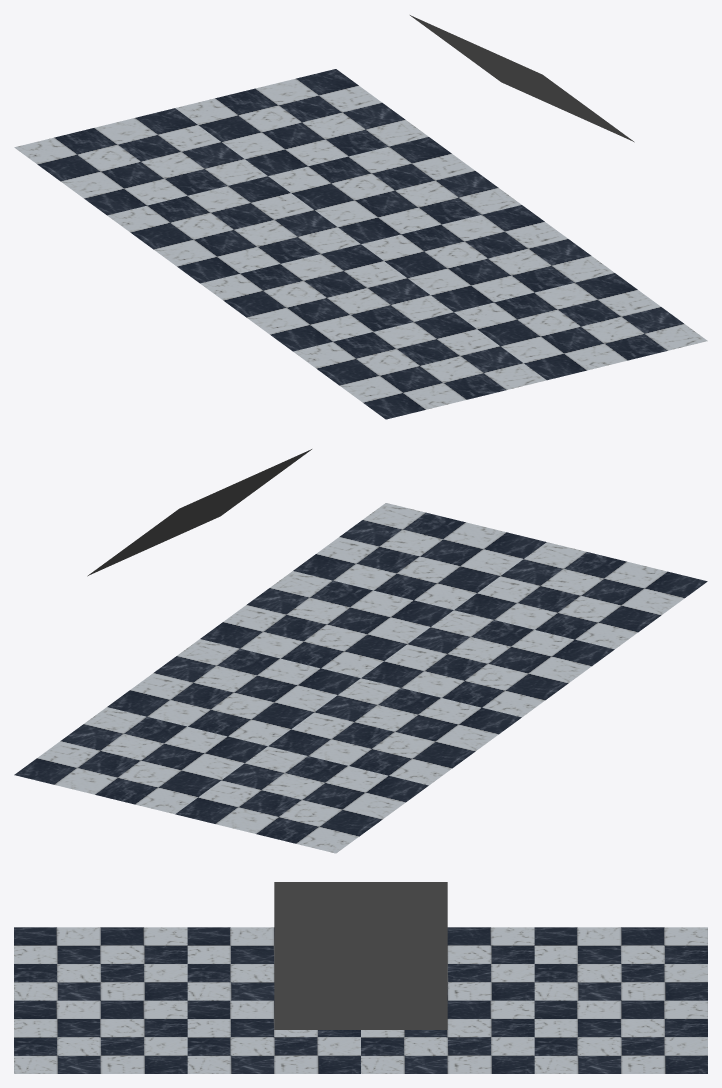
Rendered from brdf_test.obj.
The picture shows the model from 3 angles, top to bottom: view 1: azimuth 30°, elevation 25°; view 2: azimuth 150°, elevation 25°; view 3: azimuth 270°, elevation 25°; orthographic projection. The views are drawn at different scales.
Parts seen in each view (by area): view 1: Plane.006, Plane.005, Plane.003, Plane, Plane.007, Plane.004, Plane.002, Plane.001, light_Plane.008; view 2: Plane.006, Plane.005, Plane.003, Plane, Plane.004, Plane.002, Plane.001, Plane.007, light_Plane.008; view 3: light_Plane.008, Plane.007, Plane.006, Plane, Plane.001, Plane.003, Plane.005, Plane.004, Plane.002.
Boxes of the visible parts, x1,y1,x2,y2 form: Plane.006: (293,312,546,419); Plane.005: (361,205,614,311); Plane.003: (268,137,521,243); Plane: (14,108,267,215); Plane.007: (454,273,707,380); Plane.004: (200,244,453,351); Plane.002: (107,176,360,283); Plane.001: (175,69,428,175); light_Plane.008: (410,15,634,142); Plane.006: (454,542,707,649); Plane.005: (200,571,453,677); Plane.003: (107,639,360,745); Plane: (175,746,428,853); Plane.004: (361,610,614,717); Plane.002: (268,678,521,785); Plane.001: (14,707,267,814); Plane.007: (293,503,546,609); light_Plane.008: (87,449,311,576); light_Plane.008: (274,882,447,1029); Plane.007: (14,1000,187,1073); Plane.006: (14,927,187,1000); Plane: (534,927,707,1000); Plane.001: (534,1000,707,1073); Plane.003: (361,1000,534,1073); Plane.005: (187,1000,360,1073); Plane.004: (187,927,274,1000); Plane.002: (447,927,534,1000).
Size of the model in its own units: 4.83 by 2.05 by 8.
Materials: 9 (8 with a texture image).
